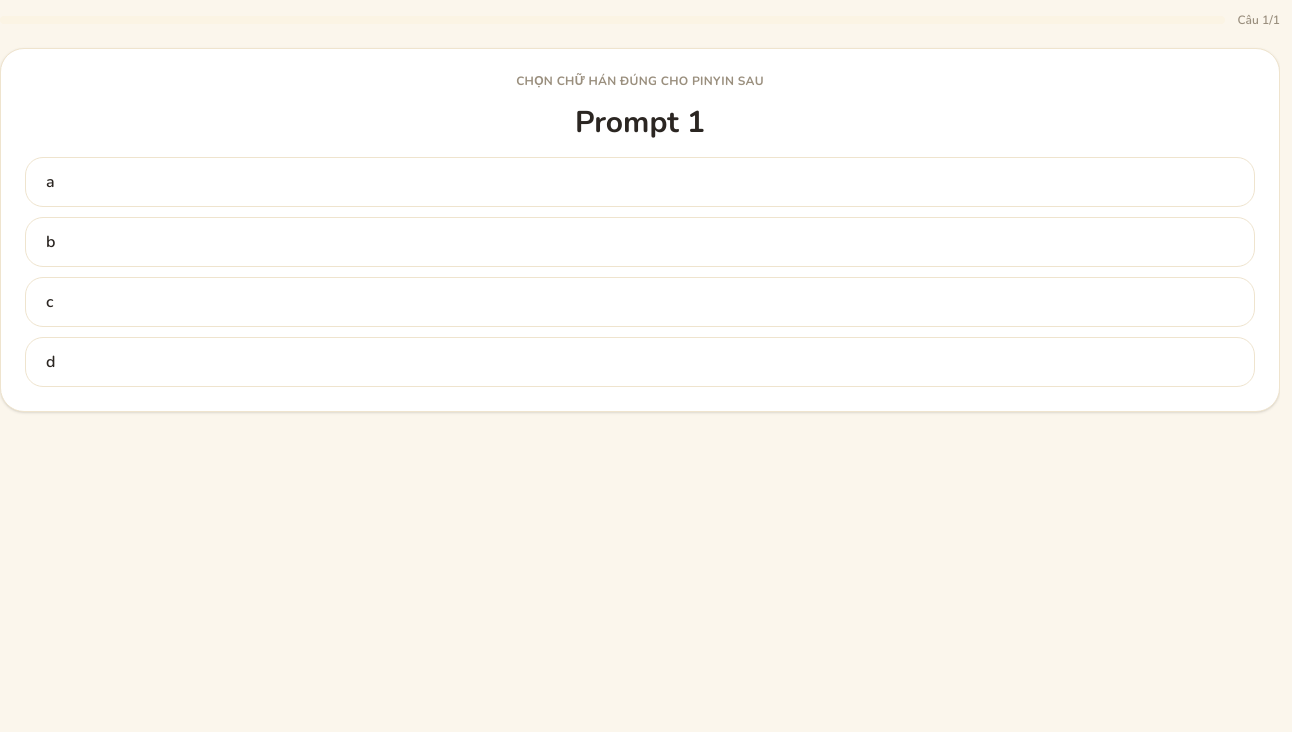
it: QuizPlayer › shows "Hoàn thành" instead of "Tiếp" on the last question
Click the button "a": (50, 182) top-left (25, 157), bottom-right (1255, 207)
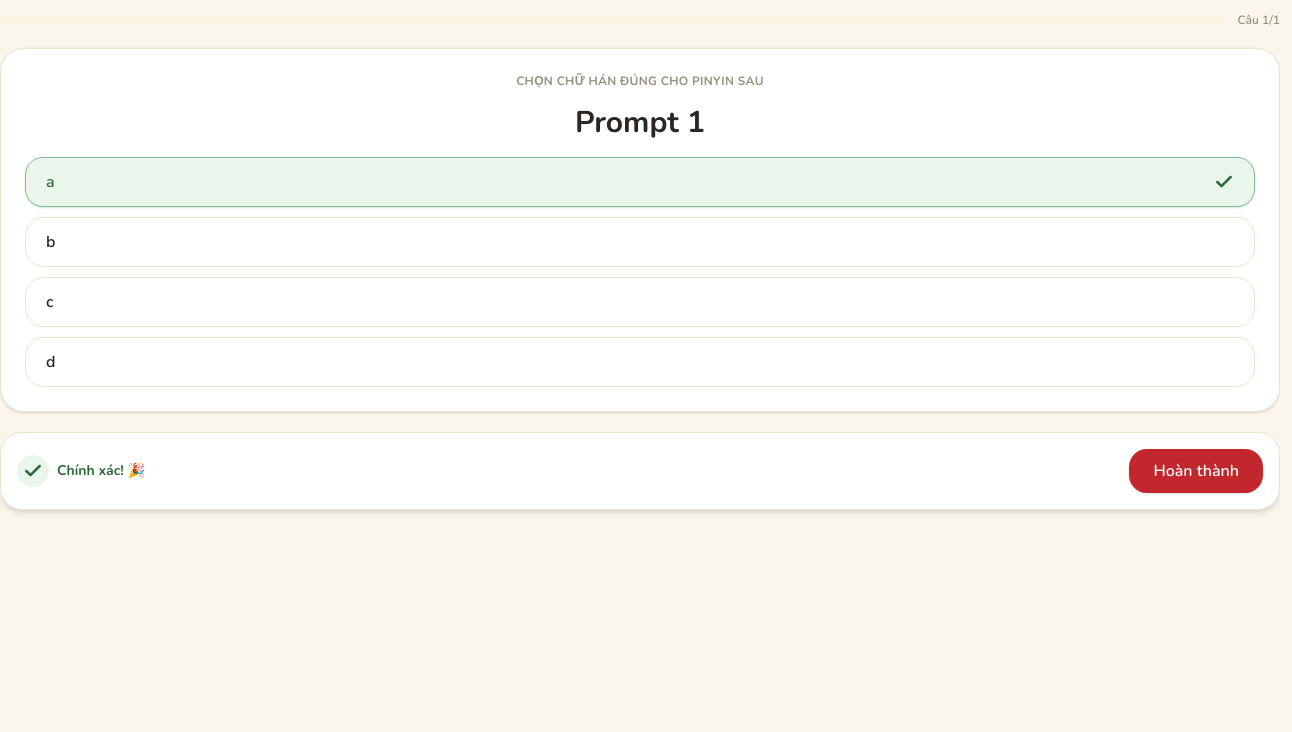
Now the button "Hoàn thành" is shown, box top-left (1129, 449), bottom-right (1263, 493)
